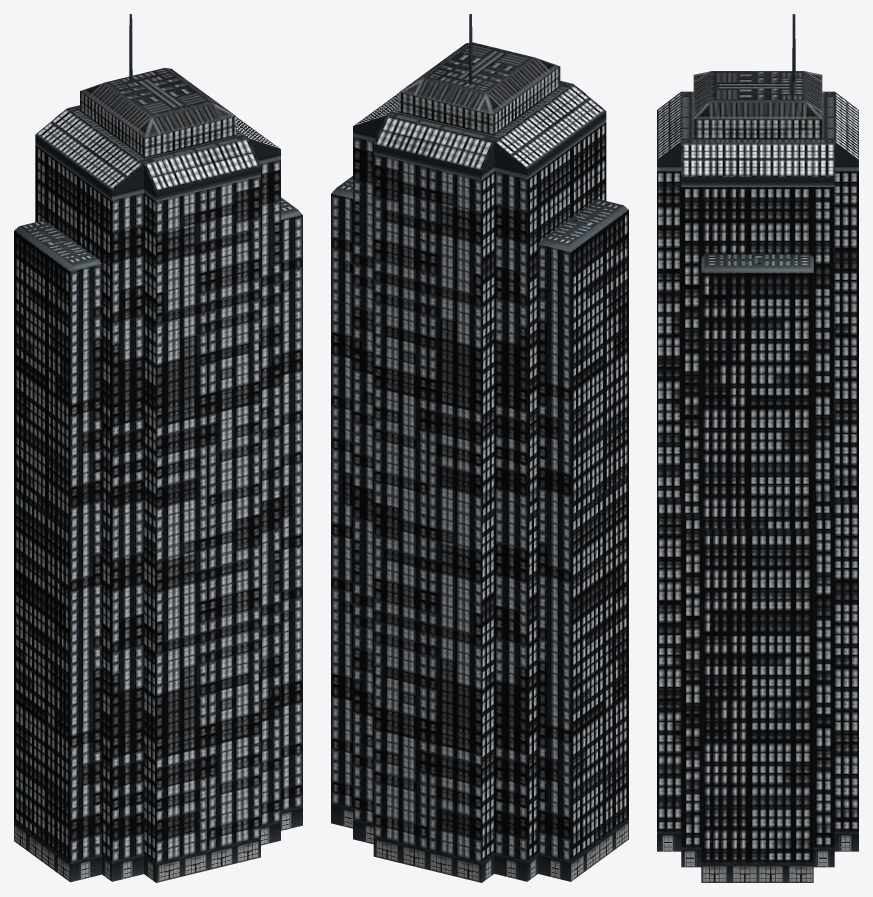
File: skyscrap23.glb
3 views of the same model, side by side, from view 1: azimuth 30°, elevation 25°; view 2: azimuth 150°, elevation 25°; view 3: azimuth 270°, elevation 25° (orthographic). The views are drawn at different scales.
Visible parts, largest first — view 1: sk23; view 2: sk23; view 3: sk23.
Boxes of the visible parts, x1=… form: sk23: x1=14, y1=14, x2=302, y2=882; sk23: x1=331, y1=14, x2=628, y2=882; sk23: x1=657, y1=14, x2=858, y2=882.
Bounding box in the file's own units: 16.08 × 53.34 × 12.09.
Materials: 1 (1 with a texture image).
